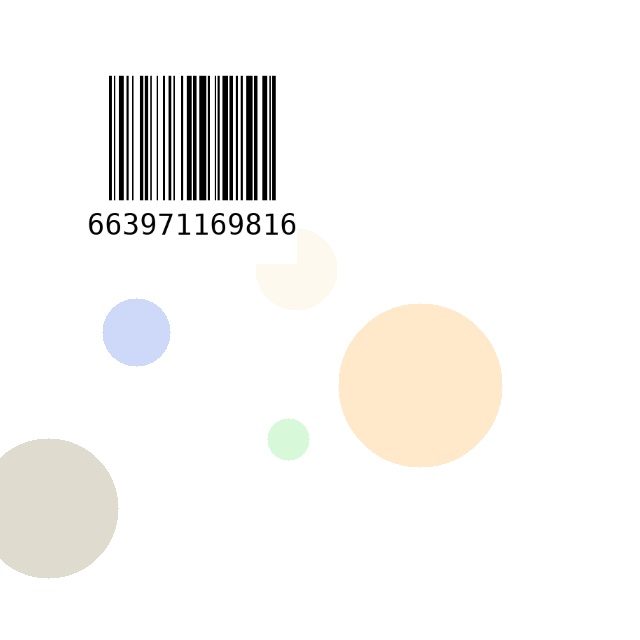barcode: (88, 68, 297, 264)
